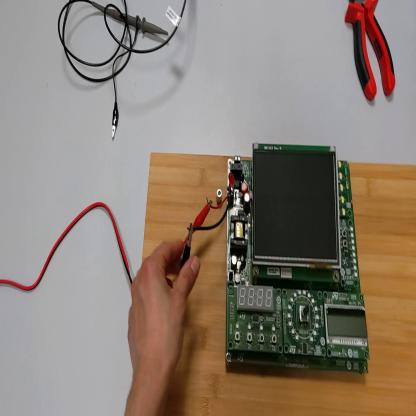hand: (126, 237, 201, 380)
low voltage board: (190, 141, 371, 372)
oscilloscope probe tip: (92, 3, 170, 36)
pliers: (346, 2, 397, 105)
working area: (142, 153, 415, 416)
